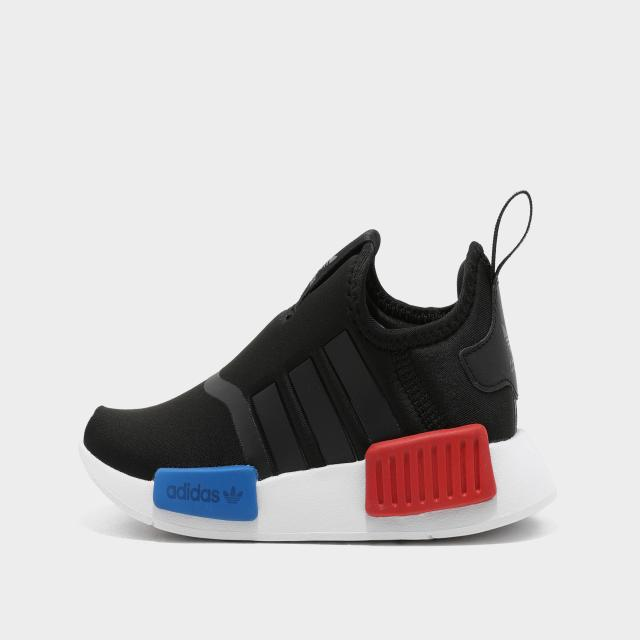shoe: (80, 188, 555, 540)
